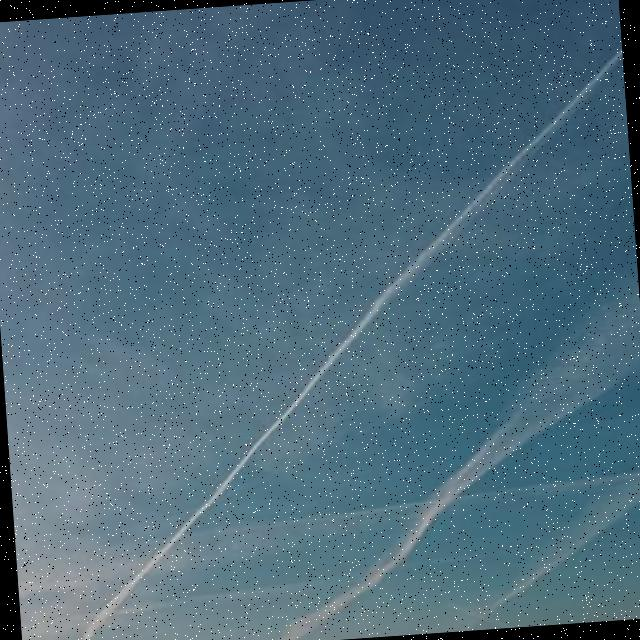Ct: (1, 1, 640, 632)
